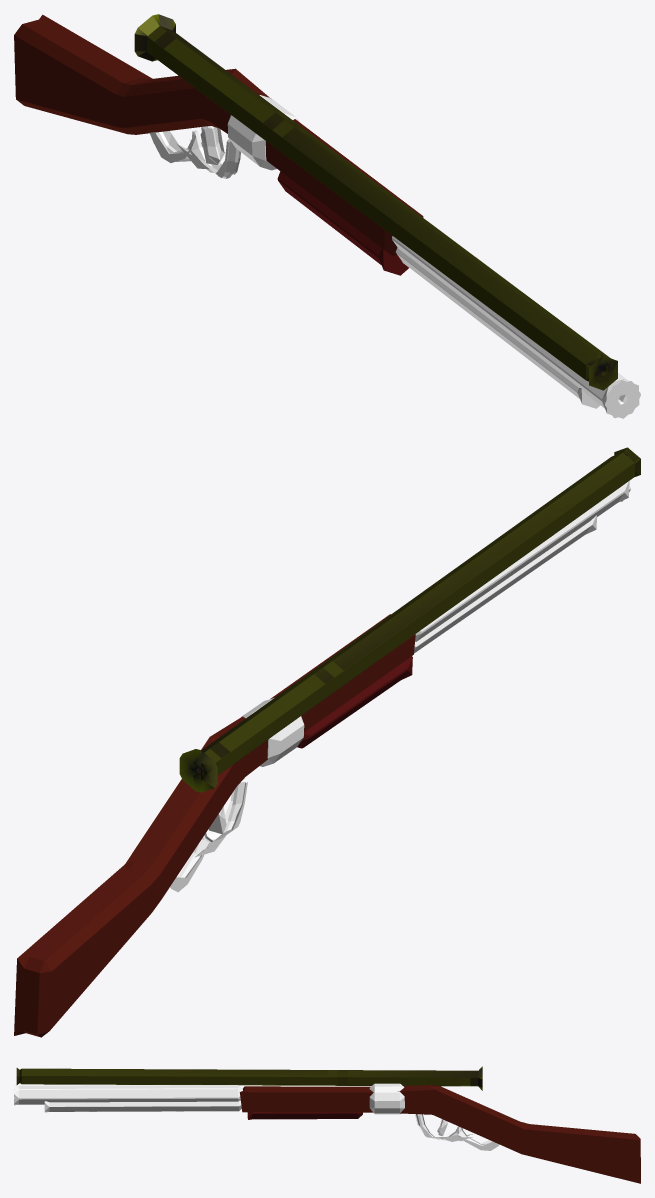
Rendered from SNIPER RIFEL .fbx.
3 views of the same model, one above another, from view 1: azimuth 30°, elevation 25°; view 2: azimuth 150°, elevation 25°; view 3: azimuth 270°, elevation 25° (orthographic). The views are drawn at different scales.
Visible parts, largest first — view 1: Cylinder.003; view 2: Cylinder.003; view 3: Cylinder.003.
Part boxes in pixels (bbox=[...]): Cylinder.003: bbox=[14, 14, 640, 418]; Cylinder.003: bbox=[14, 447, 640, 1037]; Cylinder.003: bbox=[14, 1066, 640, 1183].
Size of the model in its own units: 66.6 by 197 by 1057.
